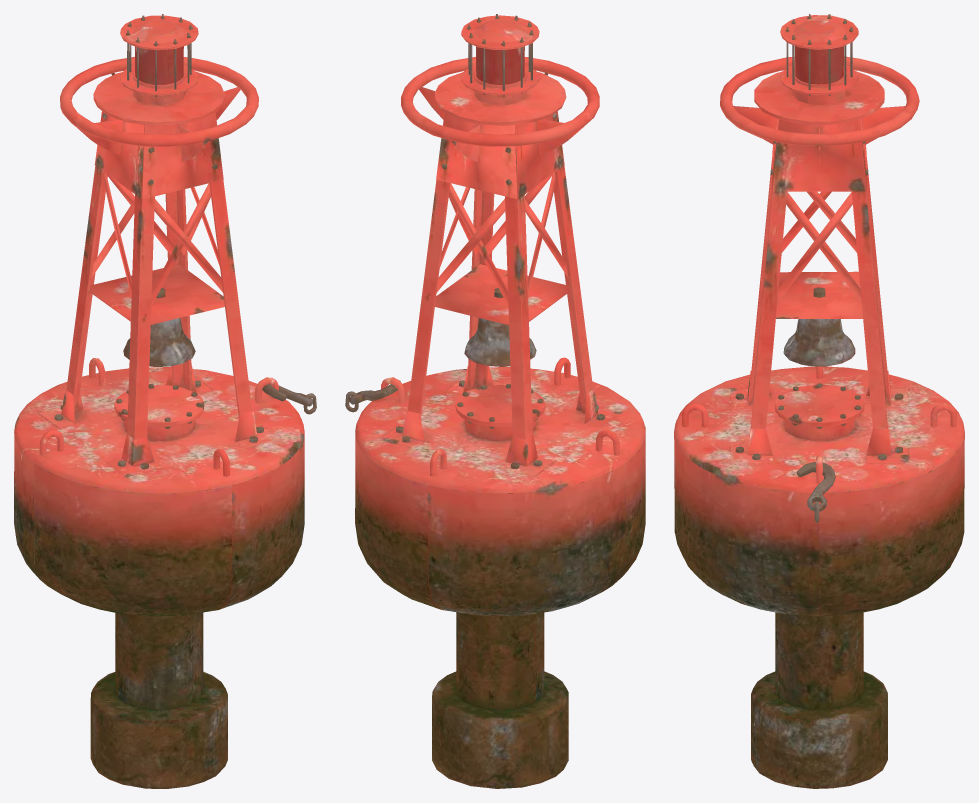
Rendered from ocean_buoy.glb.
3 renders of one model, left to right at view 1: azimuth 30°, elevation 25°; view 2: azimuth 150°, elevation 25°; view 3: azimuth 270°, elevation 25°, orthographic.
Parts seen in each view (by area): view 1: ocean_buoy; view 2: ocean_buoy; view 3: ocean_buoy.
Part boxes in pixels (<box>): ocean_buoy: <box>14,14,316,788</box>; ocean_buoy: <box>345,14,645,788</box>; ocean_buoy: <box>674,14,964,788</box>.
Bounding box in the file's own units: 1.07 × 2.66 × 0.9521.
1 material, 1 textured.
